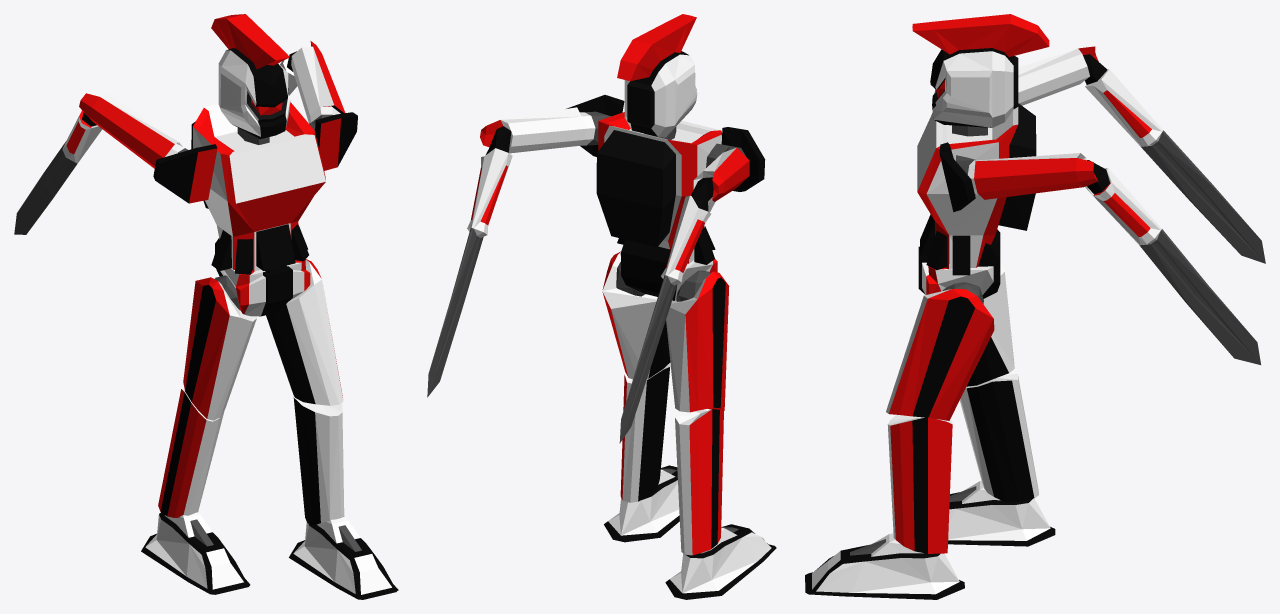
Rendered from robots_000002.obj.
The picture shows the model from 3 angles, left to right: view 1: azimuth 30°, elevation 25°; view 2: azimuth 150°, elevation 25°; view 3: azimuth 270°, elevation 25°; orthographic projection. The views are drawn at different scales.
Parts seen in each view (by area): view 1: Chest_plate_Cube.004, Head_gladiator_Cube.024, R_Thigh_Cube.005, R_Forearm.001_Cube.028, R_Thigh.002_Cube.027, R_Shin.002_Cube.029, R_Foot_Cube, R_Foot.002_Cube.035, R_Shin_Cube.007, Pelvis_Cube.006, R_Arm.002_Cube.032, R_Forearm.002_Cube.033 (+1 smaller); view 2: Chest_plate_Cube.004, R_Forearm.002_Cube.033, Head_gladiator_Cube.024, R_Thigh_Cube.005, R_Shin_Cube.007, R_Forearm.001_Cube.028, R_Shin.002_Cube.029, R_Foot_Cube, R_Thigh.002_Cube.027, R_Foot.002_Cube.035, Pelvis_Cube.006, R_Arm.002_Cube.032 (+2 smaller); view 3: R_Forearm.002_Cube.033, Chest_plate_Cube.004, Head_gladiator_Cube.024, R_Forearm.001_Cube.028, R_Thigh.002_Cube.027, R_Shin.002_Cube.029, R_Shin_Cube.007, R_Foot.002_Cube.035, R_Foot_Cube, R_Thigh_Cube.005, Pelvis_Cube.006, R_Arm.003_Cube.034.
Boxes of the visible parts, left/top/right/bottom form: Chest_plate_Cube.004: left=191, top=102, right=325, bottom=274; Head_gladiator_Cube.024: left=211, top=14, right=290, bottom=139; R_Thigh_Cube.005: left=183, top=277, right=256, bottom=420; R_Forearm.001_Cube.028: left=14, top=93, right=182, bottom=234; R_Thigh.002_Cube.027: left=266, top=259, right=343, bottom=405; R_Shin.002_Cube.029: left=293, top=396, right=344, bottom=525; R_Foot_Cube: left=141, top=512, right=250, bottom=594; R_Foot.002_Cube.035: left=289, top=517, right=398, bottom=599; R_Shin_Cube.007: left=158, top=389, right=224, bottom=517; Pelvis_Cube.006: left=215, top=238, right=310, bottom=316; R_Arm.002_Cube.032: left=153, top=143, right=217, bottom=203; R_Forearm.002_Cube.033: left=280, top=41, right=345, bottom=123; Chest_plate_Cube.004: left=596, top=112, right=722, bottom=264; R_Forearm.002_Cube.033: left=427, top=107, right=586, bottom=397; Head_gladiator_Cube.024: left=617, top=14, right=697, bottom=137; R_Thigh_Cube.005: left=666, top=271, right=729, bottom=412; R_Shin_Cube.007: left=675, top=408, right=723, bottom=555; R_Forearm.001_Cube.028: left=619, top=147, right=749, bottom=443; R_Shin.002_Cube.029: left=620, top=364, right=670, bottom=502; R_Foot_Cube: left=665, top=524, right=776, bottom=599; R_Thigh.002_Cube.027: left=602, top=251, right=670, bottom=379; R_Foot.002_Cube.035: left=604, top=465, right=679, bottom=542; Pelvis_Cube.006: left=620, top=239, right=717, bottom=300; R_Arm.002_Cube.032: left=706, top=127, right=765, bottom=191; R_Forearm.002_Cube.033: left=974, top=153, right=1260, bottom=364; Chest_plate_Cube.004: left=917, top=103, right=1036, bottom=275; Head_gladiator_Cube.024: left=912, top=14, right=1049, bottom=127; R_Forearm.001_Cube.028: left=1018, top=46, right=1265, bottom=263; R_Thigh.002_Cube.027: left=886, top=289, right=994, bottom=420; R_Shin.002_Cube.029: left=887, top=414, right=952, bottom=553; R_Shin_Cube.007: left=959, top=370, right=1038, bottom=502; R_Foot.002_Cube.035: left=805, top=533, right=964, bottom=599; R_Foot_Cube: left=948, top=481, right=1055, bottom=546; R_Thigh_Cube.005: left=966, top=263, right=1014, bottom=386; Pelvis_Cube.006: left=918, top=229, right=1000, bottom=298; R_Arm.003_Cube.034: left=939, top=142, right=982, bottom=212.
Size of the model in its own units: 1.51 by 3.17 by 2.44.
